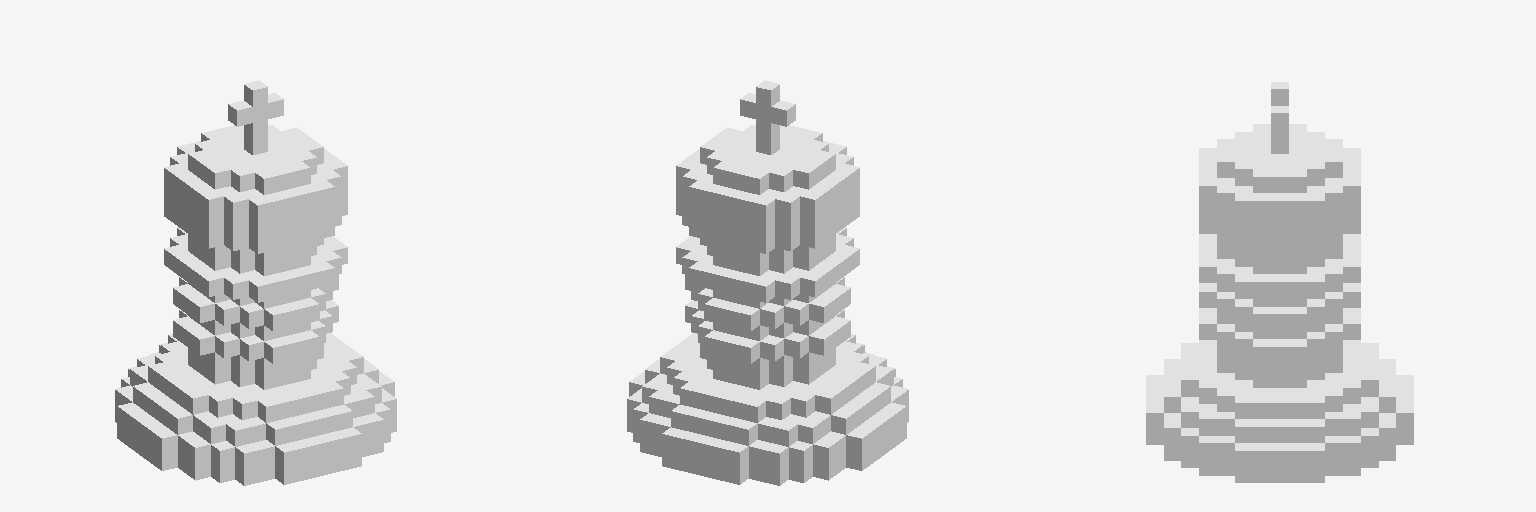
File: QueenW.obj
3 views of the same model, side by side, from view 1: azimuth 30°, elevation 25°; view 2: azimuth 150°, elevation 25°; view 3: azimuth 270°, elevation 25° (orthographic).
Parts seen in each view (by area): view 1: object 1; view 2: object 1; view 3: object 1.
Boxes of the visible parts, box(x1,y1,x2,y2) form: object 1: box(115, 80, 396, 485); object 1: box(627, 80, 908, 485); object 1: box(1146, 82, 1413, 482).
Bounding box in the file's own units: 1.5 × 2.1 × 1.5.